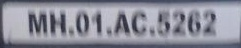character: (27, 11, 47, 34), (48, 11, 67, 34), (112, 12, 131, 34), (130, 10, 147, 34), (186, 10, 202, 35), (74, 11, 90, 34), (156, 10, 170, 36), (202, 10, 217, 34), (172, 10, 186, 35), (91, 12, 102, 34)
